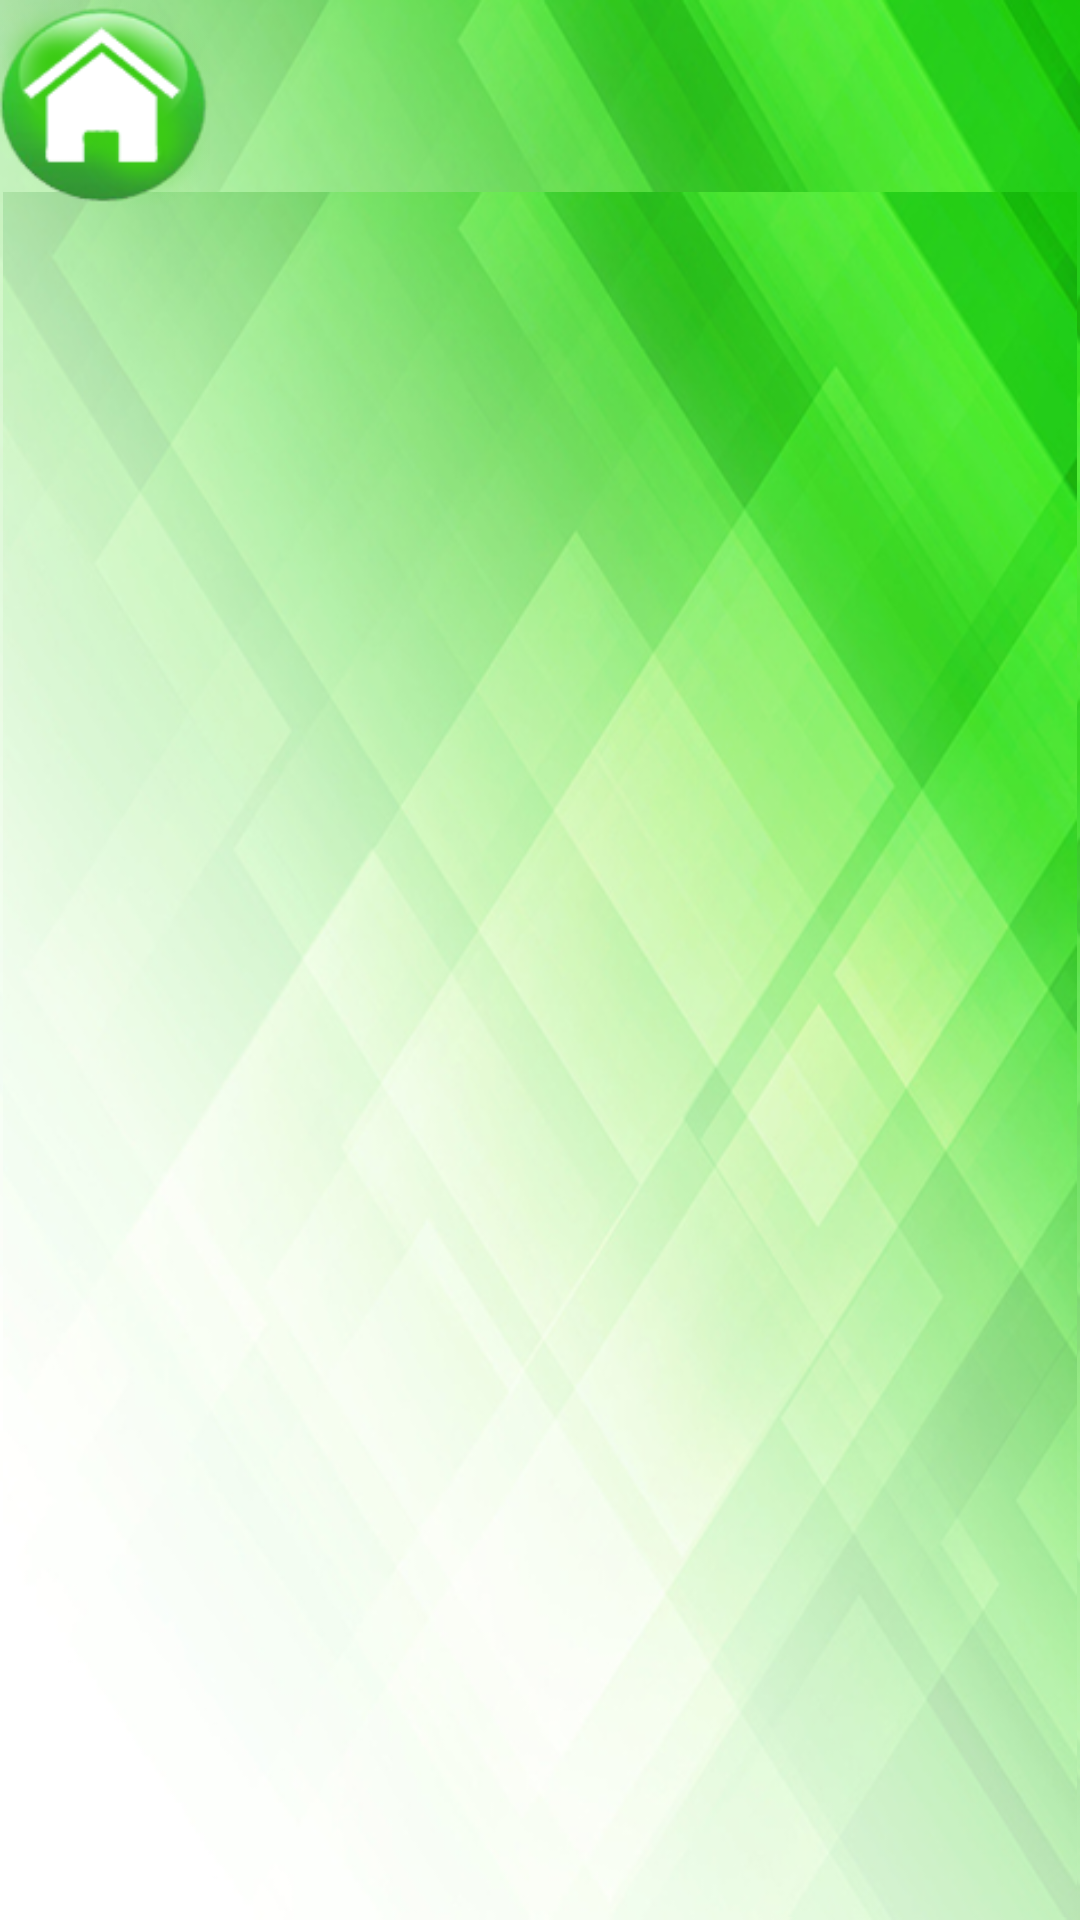

Named icons in this screenshot (1080 × 1920) and their bounding boxes, region(x1, y1, x2, y2):
home: region(0, 9, 206, 210)
